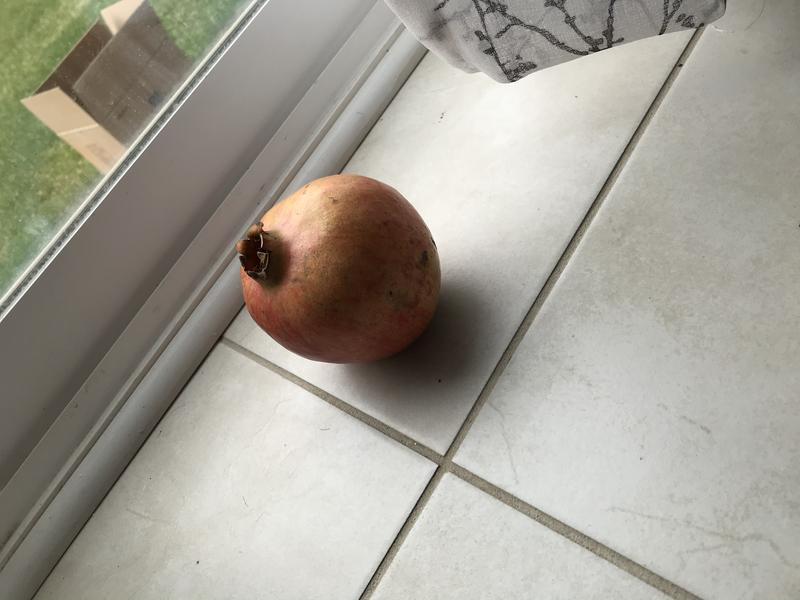pomegranate: (230, 170, 460, 366)
